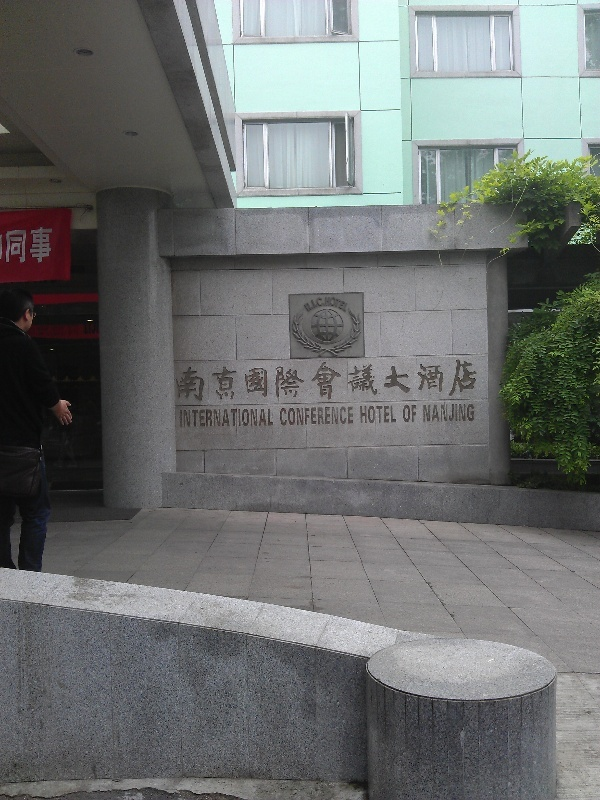text: (177, 356, 192, 404), (193, 356, 208, 404), (209, 356, 224, 404), (225, 356, 240, 404), (241, 356, 256, 404), (257, 356, 272, 404), (273, 356, 288, 404), (289, 356, 304, 404), (305, 356, 320, 404), (321, 356, 336, 404), (337, 356, 352, 404), (353, 356, 368, 404), (369, 356, 384, 404), (385, 356, 400, 404), (401, 356, 416, 404), (417, 356, 432, 404), (433, 356, 448, 404), (449, 356, 464, 404), (465, 356, 479, 404), (17, 227, 32, 264), (33, 227, 48, 264), (6, 227, 16, 264), (433, 402, 448, 424), (449, 402, 464, 424), (193, 407, 208, 428), (209, 407, 224, 428), (225, 407, 240, 428), (241, 407, 256, 428), (257, 407, 272, 428), (289, 406, 304, 427), (305, 406, 320, 427), (321, 406, 336, 427), (337, 406, 352, 427), (369, 405, 384, 425), (402, 404, 416, 424), (179, 407, 192, 428), (385, 405, 398, 425), (305, 296, 320, 313), (321, 296, 336, 313), (465, 402, 476, 424), (337, 296, 349, 313), (423, 402, 432, 424), (279, 406, 288, 427), (49, 227, 54, 264), (359, 405, 368, 425), (353, 406, 356, 427), (175, 356, 176, 404), (273, 407, 274, 428)
